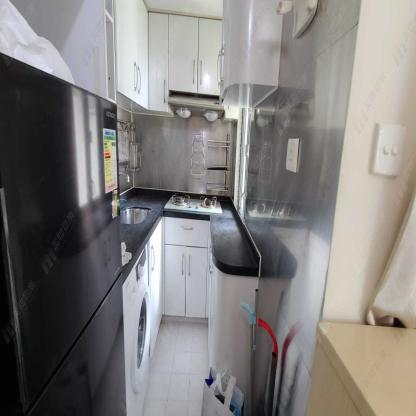Cupboard: (114, 0, 149, 110)
Exhaust Hood: (166, 88, 225, 126)
Fridge: (5, 55, 126, 416)
Sink: (120, 196, 164, 242)
Stove: (162, 188, 228, 222)
Washing Machine: (122, 240, 152, 416)
